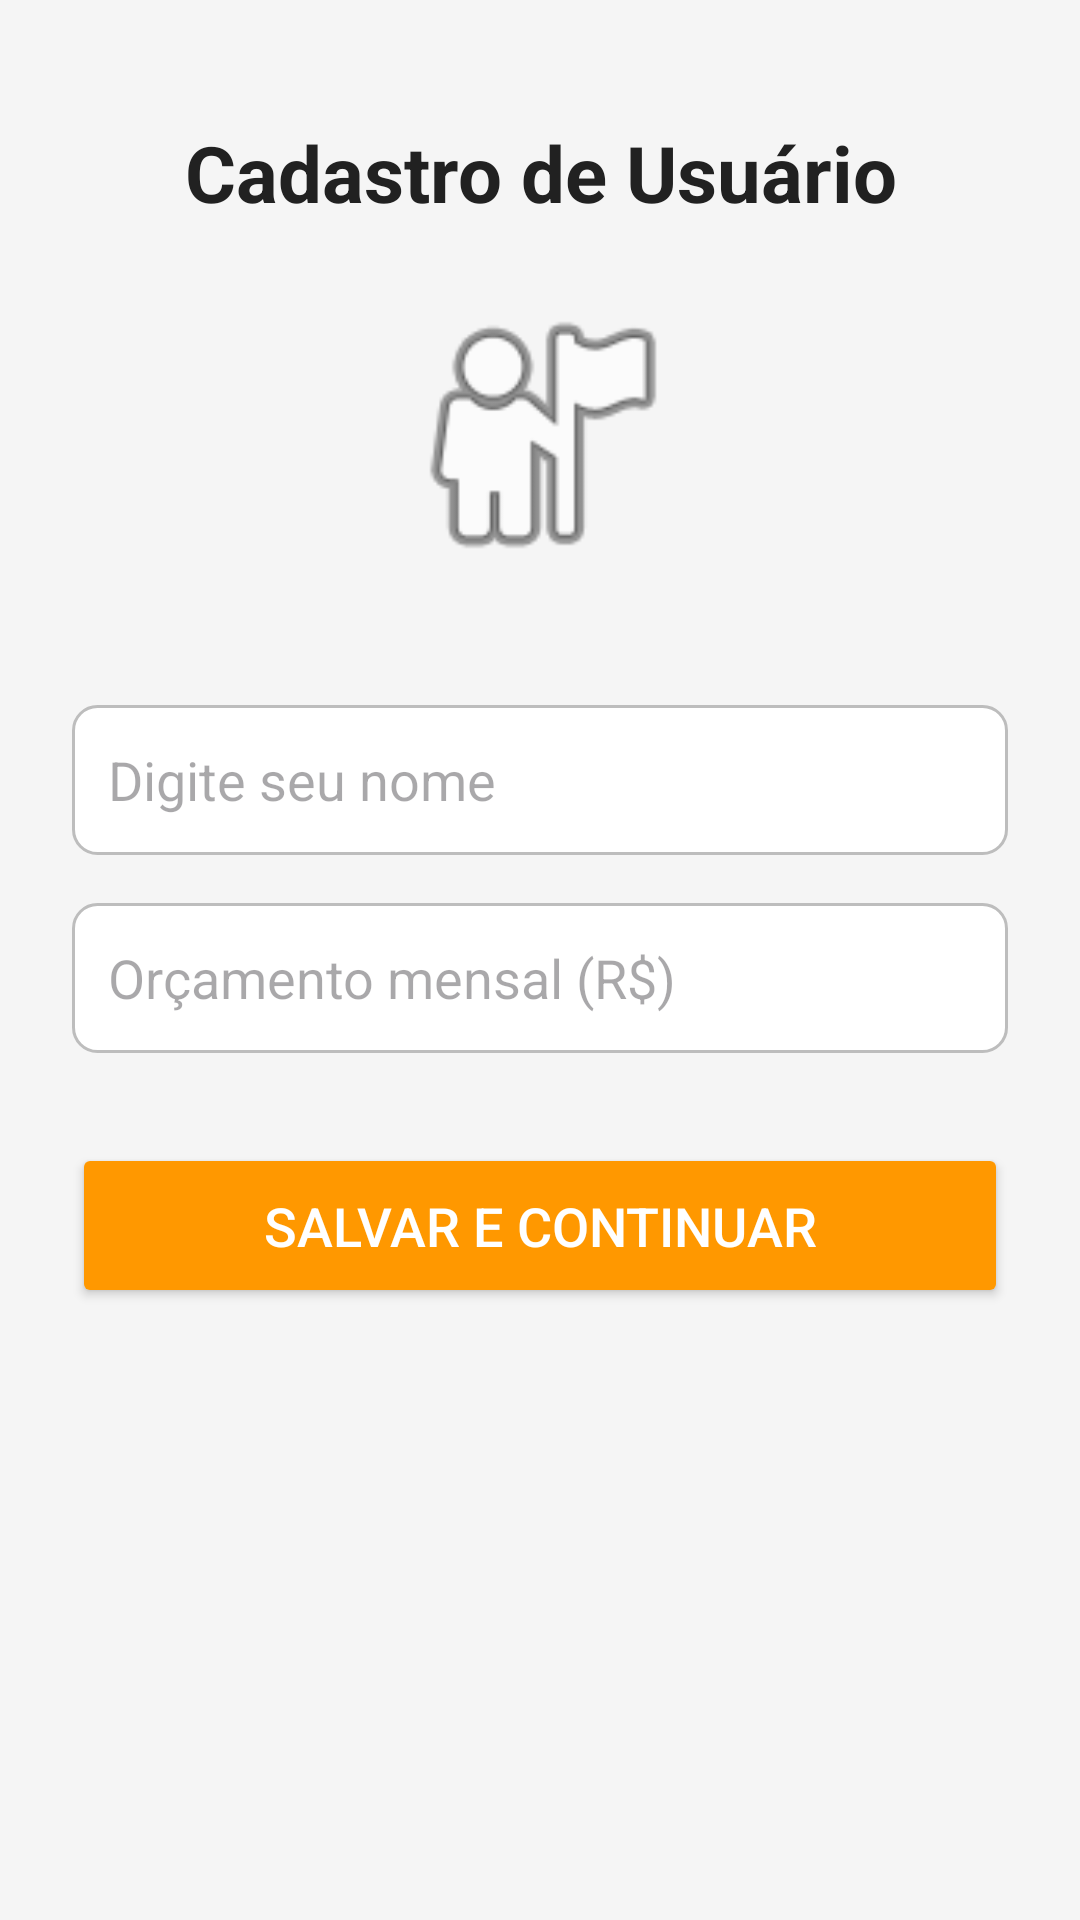

Point at icon controls on the screen. Image size 1080*1920, points as (x,y).
Ícone Usuário: (543,435)
